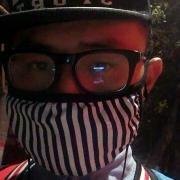OK: (7, 35, 146, 174)
